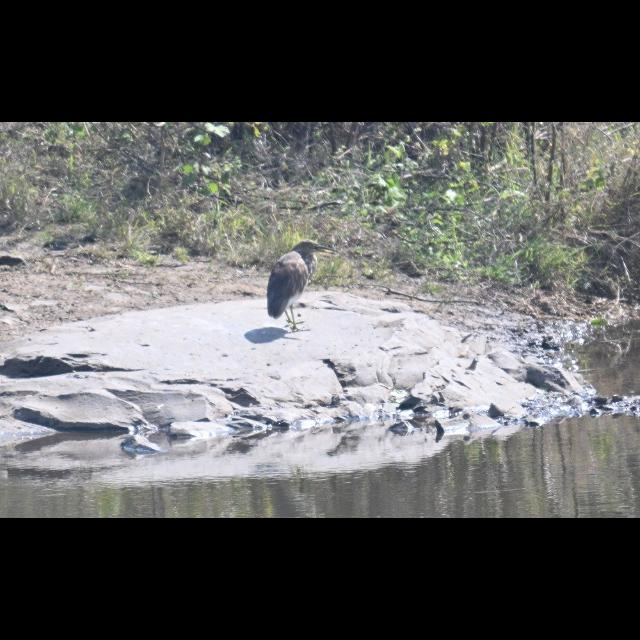heron: (264, 235, 334, 329)
